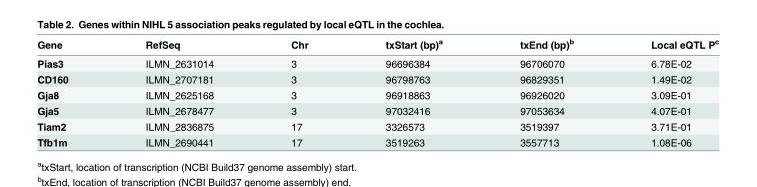table: (36, 36, 718, 147)
table column: (106, 36, 251, 147), (346, 36, 480, 147), (480, 36, 611, 147), (611, 36, 718, 147), (251, 36, 346, 147), (36, 36, 106, 147)
table column header: (36, 36, 718, 53)
table row: (36, 36, 718, 53), (36, 53, 718, 70), (36, 70, 718, 86), (36, 86, 718, 102), (36, 102, 718, 118), (36, 118, 718, 134), (36, 134, 718, 147)
